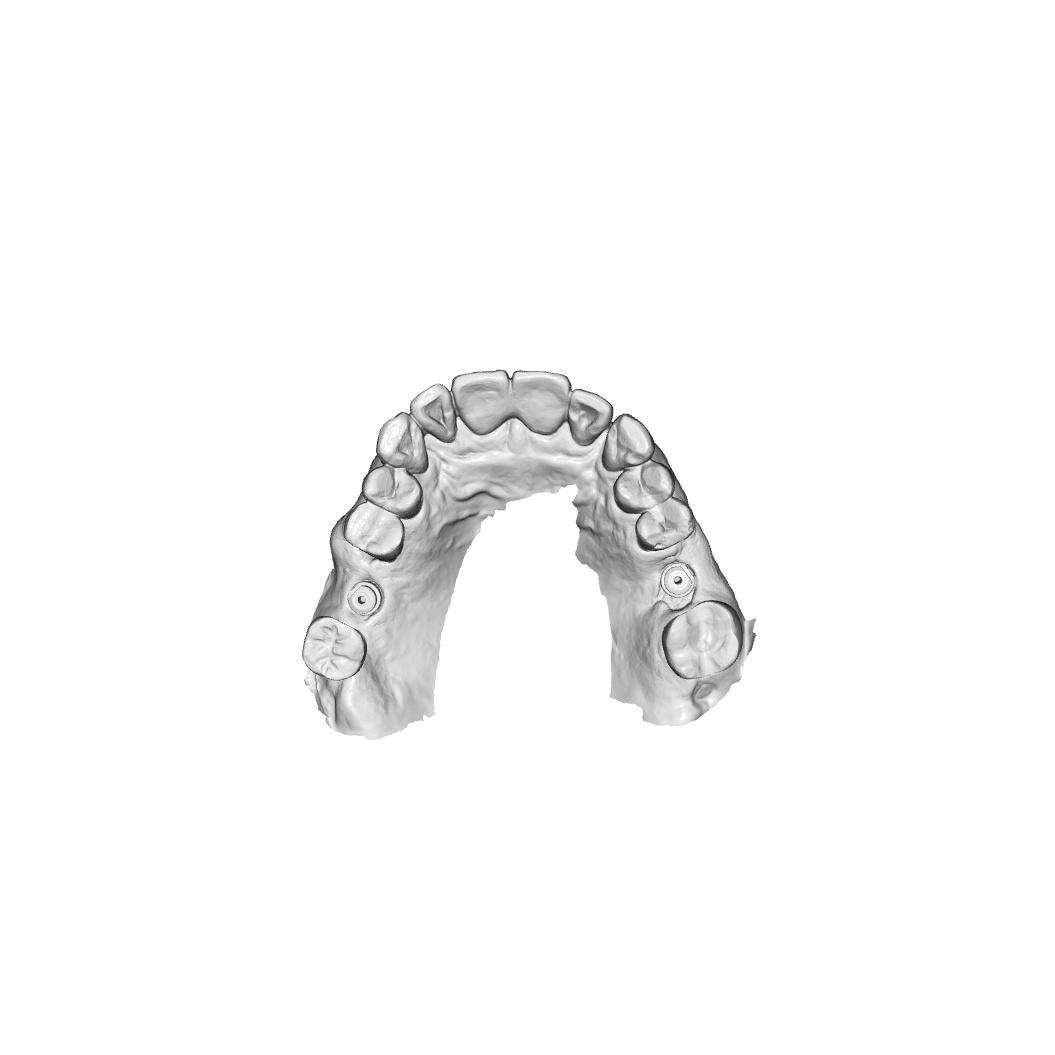canine: (375, 411, 429, 475), (600, 413, 656, 472)
implant: (346, 579, 383, 618), (660, 561, 697, 598)
incisor: (450, 368, 512, 436), (511, 368, 572, 436), (410, 382, 458, 444), (568, 388, 614, 448)
molar: (661, 599, 743, 680), (300, 613, 368, 683)
premolar: (343, 500, 405, 563), (634, 495, 696, 553), (613, 459, 676, 515), (361, 465, 424, 520)
